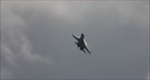maybay_muctieu: (72, 31, 91, 54)
